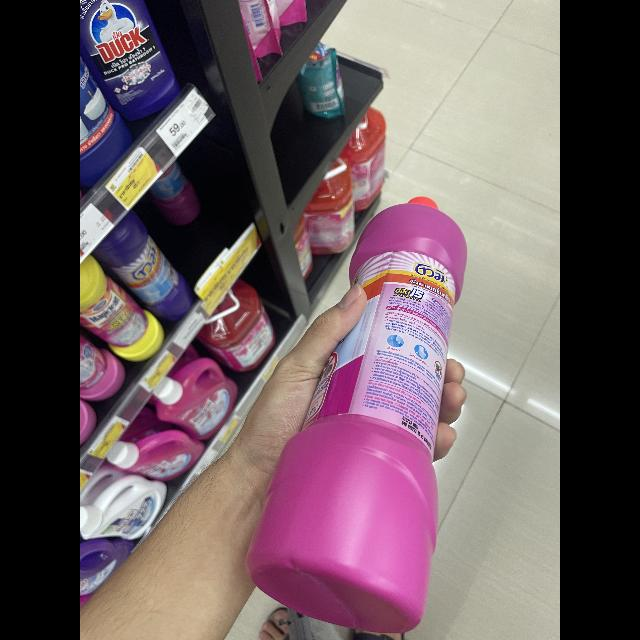chemical_plastic_bottle: (236, 176, 468, 640)
